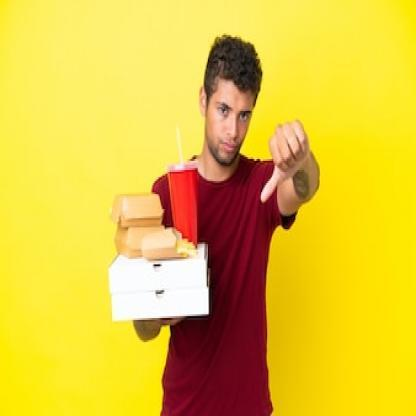thumb_down: (258, 116, 312, 207)
